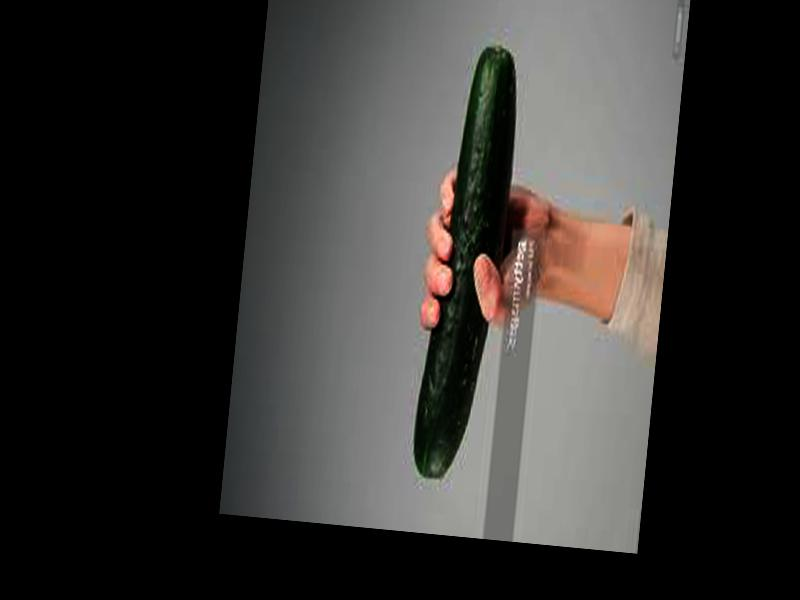Cucumber: (410, 50, 522, 483)
